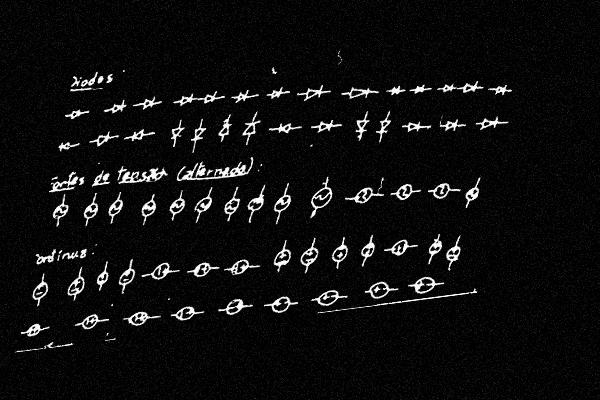diode: (343, 83, 375, 101), (300, 82, 326, 103), (215, 115, 236, 140), (373, 113, 393, 139), (240, 116, 262, 139), (312, 116, 338, 135), (91, 129, 115, 149), (272, 118, 297, 137), (138, 93, 161, 113), (352, 114, 372, 137), (477, 114, 502, 132), (232, 87, 256, 105), (107, 97, 128, 117), (127, 126, 149, 145), (167, 124, 186, 144), (176, 91, 197, 109), (189, 125, 207, 145), (267, 84, 288, 101), (489, 82, 511, 98), (459, 79, 480, 95), (403, 119, 424, 135), (440, 118, 462, 133), (200, 90, 219, 106), (410, 82, 431, 96), (387, 81, 405, 97), (438, 80, 457, 95), (57, 138, 74, 154), (67, 107, 84, 121)
signal: (307, 181, 336, 214), (191, 191, 215, 220), (166, 190, 189, 219), (244, 190, 268, 217), (428, 179, 457, 201), (349, 185, 378, 206), (271, 190, 294, 216), (49, 199, 72, 225), (391, 181, 418, 203), (138, 196, 160, 223), (221, 192, 242, 219), (104, 196, 126, 220), (79, 198, 100, 223), (462, 184, 483, 204)
voltage: (265, 292, 296, 317), (364, 278, 396, 302), (410, 272, 441, 296), (122, 306, 154, 329), (74, 310, 106, 333), (296, 243, 321, 271), (311, 288, 344, 309), (147, 260, 177, 283), (225, 255, 255, 278), (28, 278, 53, 305), (64, 272, 88, 300), (115, 263, 139, 291), (171, 302, 201, 324), (270, 244, 294, 271), (328, 240, 351, 267), (220, 296, 249, 317), (386, 236, 413, 258), (20, 318, 48, 339), (357, 238, 379, 263), (442, 242, 464, 267), (190, 258, 214, 280), (425, 235, 445, 260), (93, 269, 111, 290)
